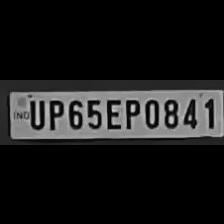0: (142, 95, 160, 127)
1: (200, 96, 218, 128)
4: (180, 96, 198, 128)
5: (85, 96, 103, 128)
6: (65, 96, 83, 128)
8: (160, 96, 178, 128)
E: (103, 96, 121, 128)
P: (46, 96, 64, 130), (122, 96, 140, 128)
U: (26, 96, 44, 128)
